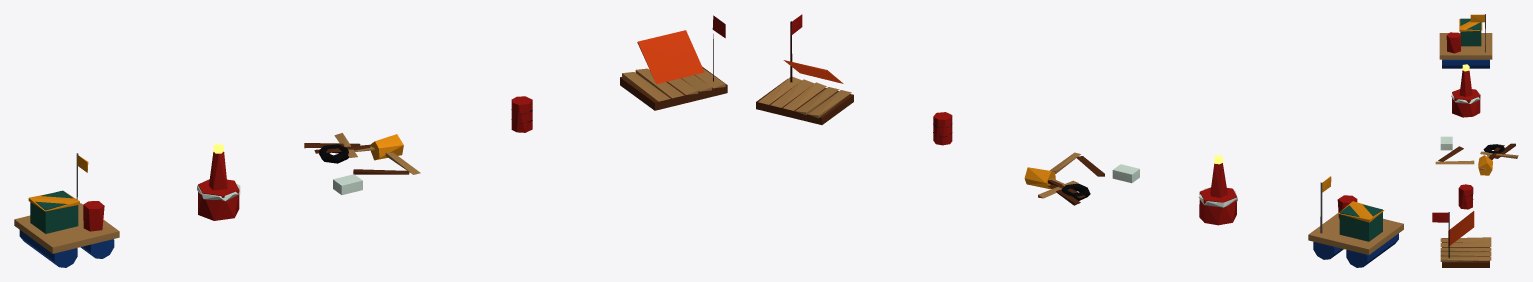
Rendered from tb_debris_kit.three-web-toon.lod50.glb.
The picture shows the model from 3 angles, left to right: view 1: azimuth 30°, elevation 25°; view 2: azimuth 150°, elevation 25°; view 3: azimuth 270°, elevation 25°; orthographic projection. The views are drawn at different scales.
Parts seen in each view (by area): view 1: cache_crate_lod, castaway_raft_lod, debris_patch_lod, buoy_lod, oil_drum_lod; view 2: cache_crate_lod, castaway_raft_lod, debris_patch_lod, buoy_lod, oil_drum_lod; view 3: cache_crate_lod, castaway_raft_lod, debris_patch_lod, buoy_lod, oil_drum_lod.
Part boxes in pixels (x1,y1,x2,y2): cache_crate_lod: [14, 153, 119, 267]; castaway_raft_lod: [620, 15, 727, 110]; debris_patch_lod: [304, 133, 420, 194]; buoy_lod: [197, 143, 240, 220]; oil_drum_lod: [511, 96, 532, 132]; cache_crate_lod: [1308, 176, 1403, 267]; castaway_raft_lod: [756, 14, 853, 124]; debris_patch_lod: [1024, 152, 1139, 205]; buoy_lod: [1198, 155, 1237, 225]; oil_drum_lod: [933, 112, 952, 145]; cache_crate_lod: [1439, 14, 1492, 68]; castaway_raft_lod: [1432, 211, 1491, 267]; debris_patch_lod: [1435, 136, 1518, 175]; buoy_lod: [1451, 64, 1480, 117]; oil_drum_lod: [1458, 184, 1473, 209].
Size of the model in its own units: 22.3 by 2.85 by 3.59.
